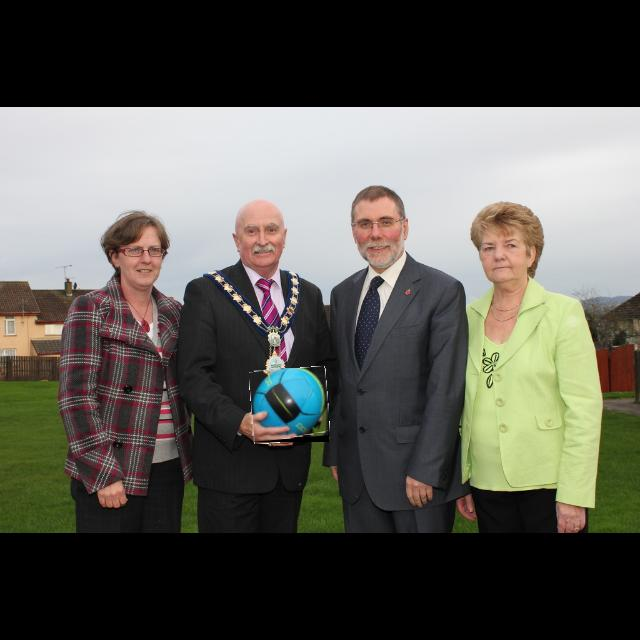Football: (251, 368, 329, 442)
